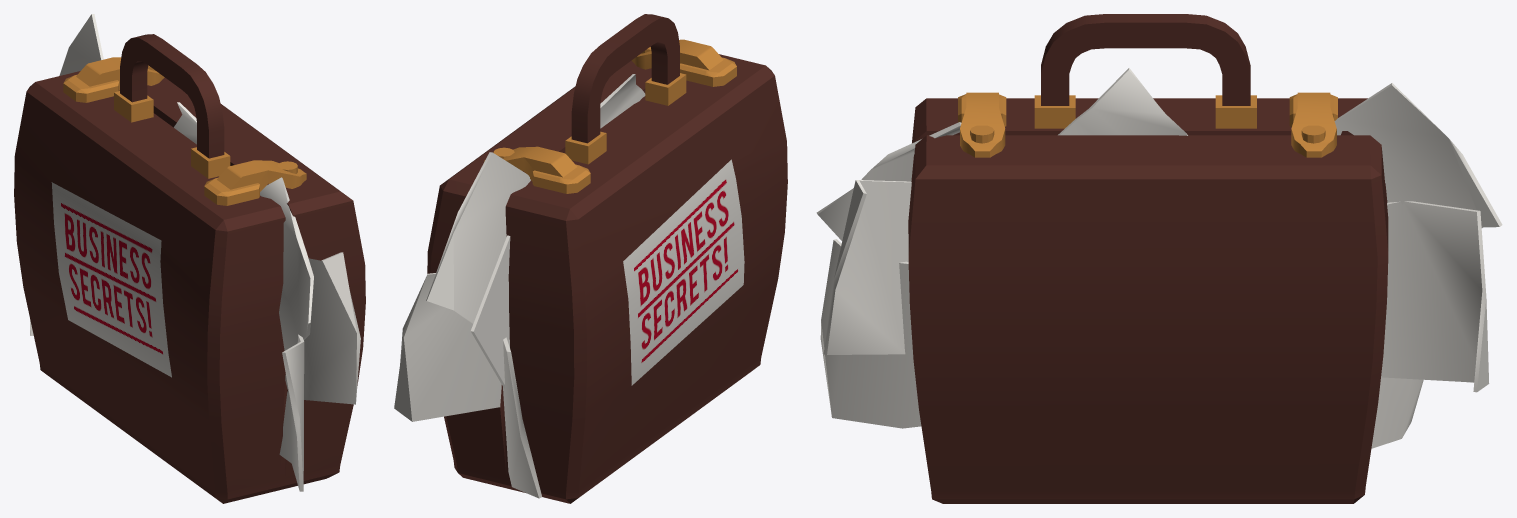
File: Briefcase.fbx
3 renders of one model, left to right at view 1: azimuth 30°, elevation 25°; view 2: azimuth 150°, elevation 25°; view 3: azimuth 270°, elevation 25°, orthographic. The views are drawn at different scales.
Parts seen in each view (by area): view 1: pCube8; view 2: pCube8; view 3: pCube8.
Part boxes in pixels (x1=…): pCube8: x1=14, y1=14, x2=365, y2=503; pCube8: x1=394, y1=14, x2=787, y2=503; pCube8: x1=816, y1=14, x2=1502, y2=503.
Size of the model in its own units: 55.5 by 131 by 182.
Materials: 1 (1 with a texture image).
